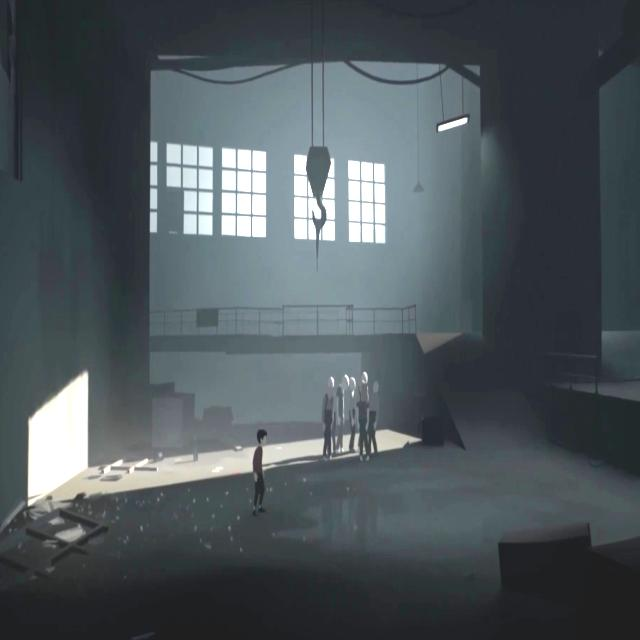boy: (250, 427, 270, 515)
zombie: (356, 372, 370, 462), (336, 374, 349, 454), (322, 377, 334, 462), (370, 381, 380, 456), (350, 376, 356, 453)
